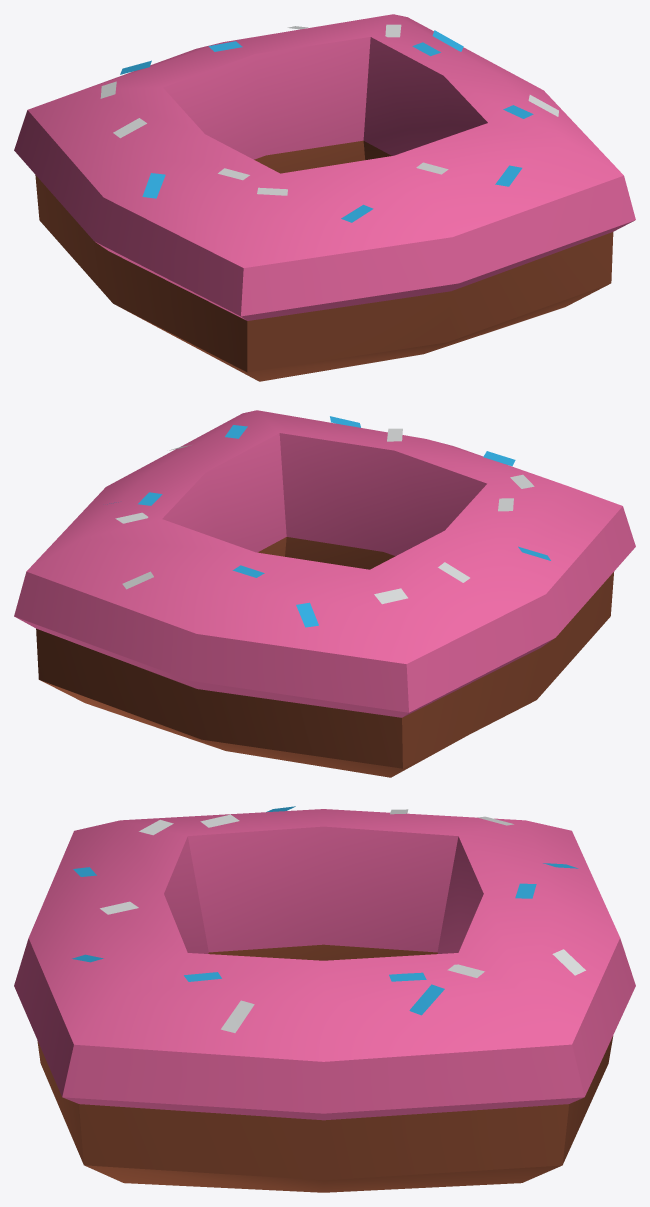
Rendered from Head 10.FBX.
The picture shows the model from 3 angles, top to bottom: view 1: azimuth 30°, elevation 25°; view 2: azimuth 150°, elevation 25°; view 3: azimuth 270°, elevation 25°; orthographic projection. The views are drawn at different scales.
Parts seen in each view (by area): view 1: Head 10; view 2: Head 10; view 3: Head 10.
Part boxes in pixels (x1,y1,x2,y2): Head 10: (14,14,635,381); Head 10: (14,410,635,777); Head 10: (14,806,635,1192).
Bounding box in the file's own units: 117 × 45.62 × 119.
Materials: 1 (1 with a texture image).
